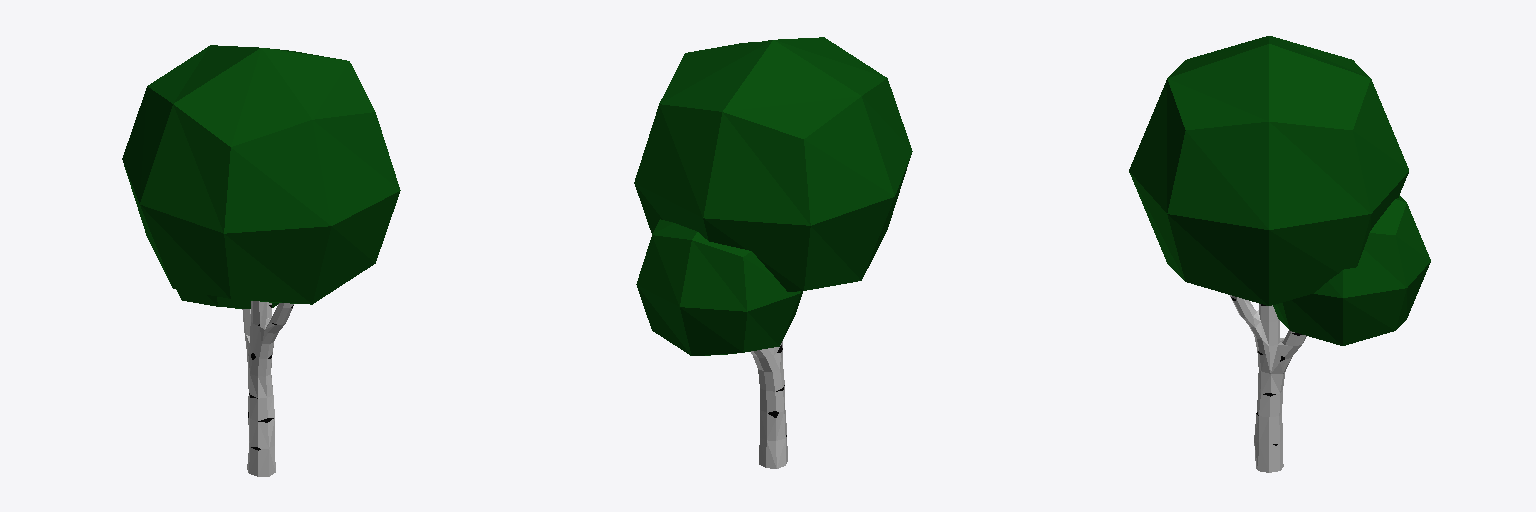
The model's file is beresa.obj.
3 views of the same model, side by side, from view 1: azimuth 30°, elevation 25°; view 2: azimuth 150°, elevation 25°; view 3: azimuth 270°, elevation 25° (orthographic).
Visible parts, largest first — view 1: Cube; view 2: Cube; view 3: Cube.
Boxes of the visible parts, x1=… form: Cube: x1=122, y1=45, x2=400, y2=476; Cube: x1=634, y1=37, x2=912, y2=468; Cube: x1=1129, y1=36, x2=1430, y2=472.
Size of the model in its own units: 6.13 by 10.22 by 6.6.